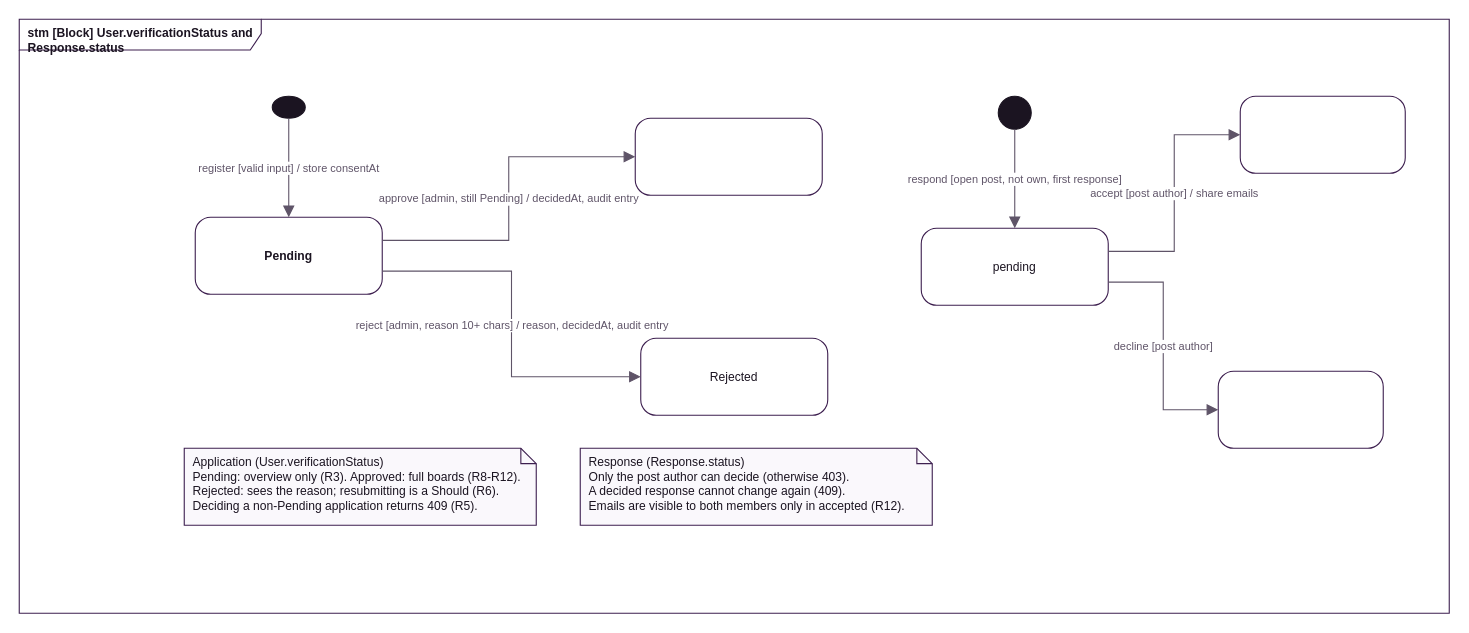
This 1469x633 diagram has some shape labels left out. Each missing label, with the box of its shape:
accepted: (1239, 95, 1405, 173)
Approved: (634, 117, 822, 195)
declined: (1217, 370, 1383, 448)
